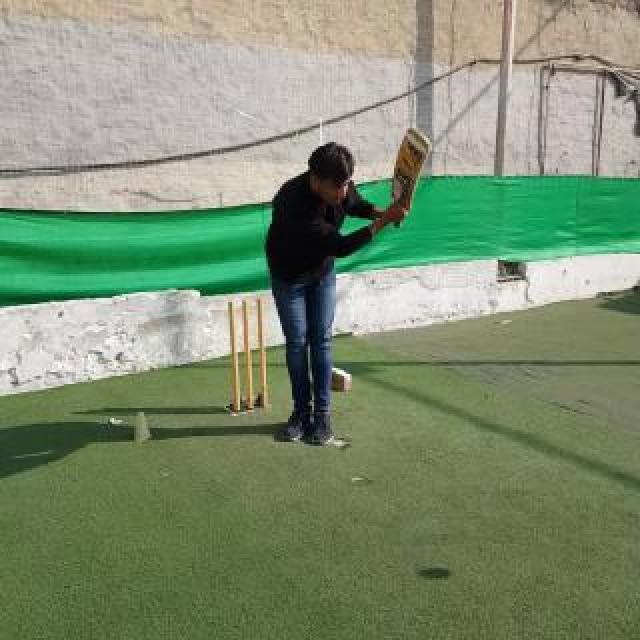bat: (390, 128, 432, 228)
